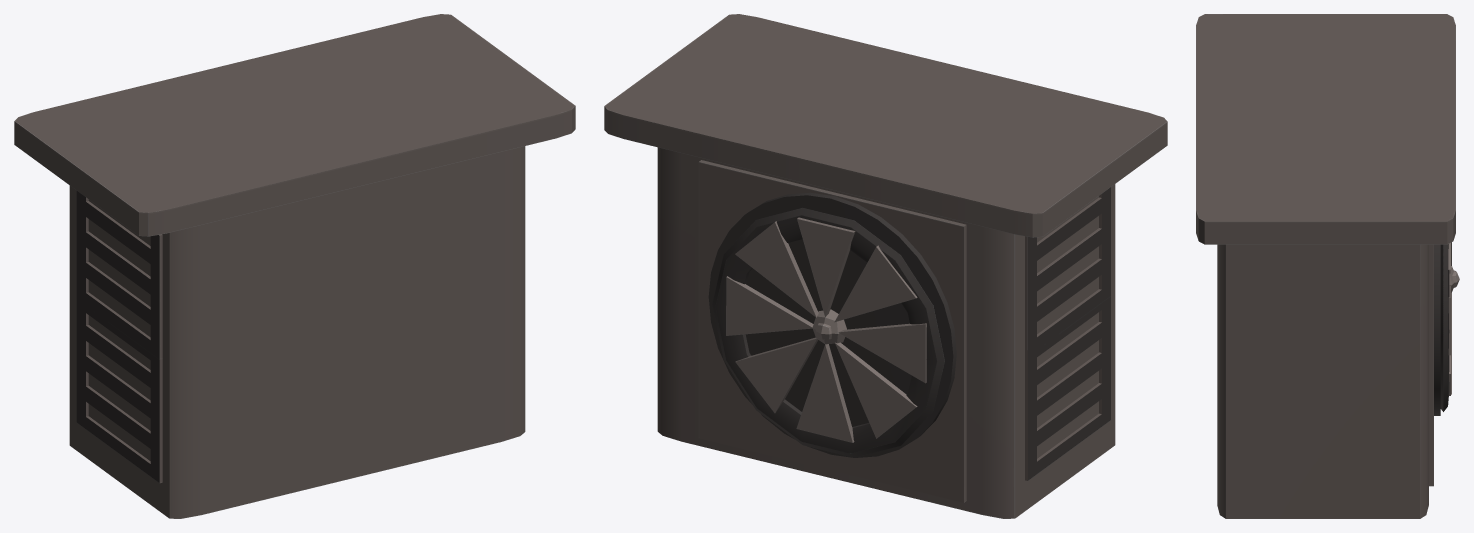
The model's file is Ventilator.fbx.
3 views of the same model, side by side, from view 1: azimuth 30°, elevation 25°; view 2: azimuth 150°, elevation 25°; view 3: azimuth 270°, elevation 25° (orthographic). The views are drawn at different scales.
Parts seen in each view (by area): view 1: Cube.003; view 2: Cube.003, Cube.001; view 3: Cube.003, Cube.001.
Boxes of the visible parts, x1=… form: Cube.003: x1=14, y1=14, x2=575, y2=518; Cube.003: x1=604, y1=14, x2=1167, y2=518; Cube.001: x1=726, y1=217, x2=926, y2=442; Cube.003: x1=1196, y1=14, x2=1455, y2=518; Cube.001: x1=1448, y1=242, x2=1459, y2=395.
Bounding box in the file's own units: 358 × 255 × 192.
